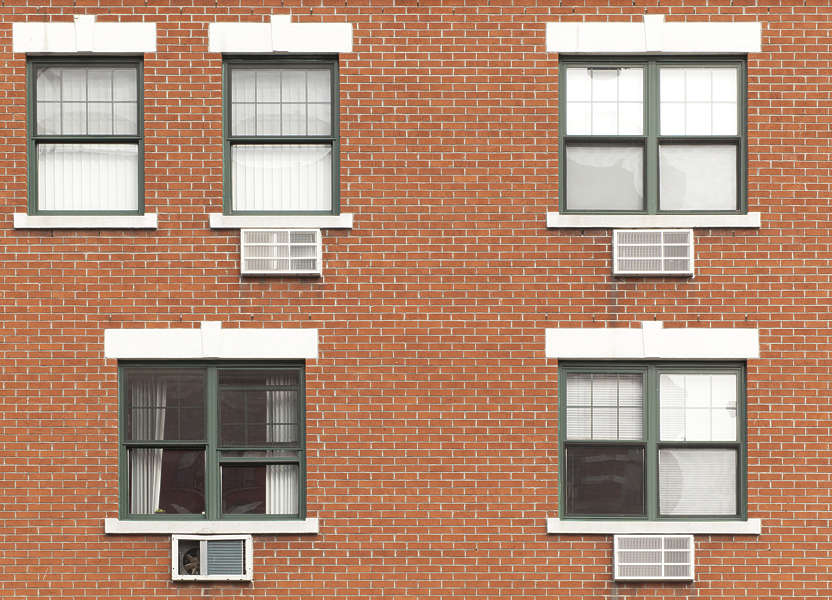B-Window: (538, 14, 774, 230), (97, 318, 333, 532), (535, 318, 768, 527), (200, 19, 358, 227), (13, 21, 166, 234)
